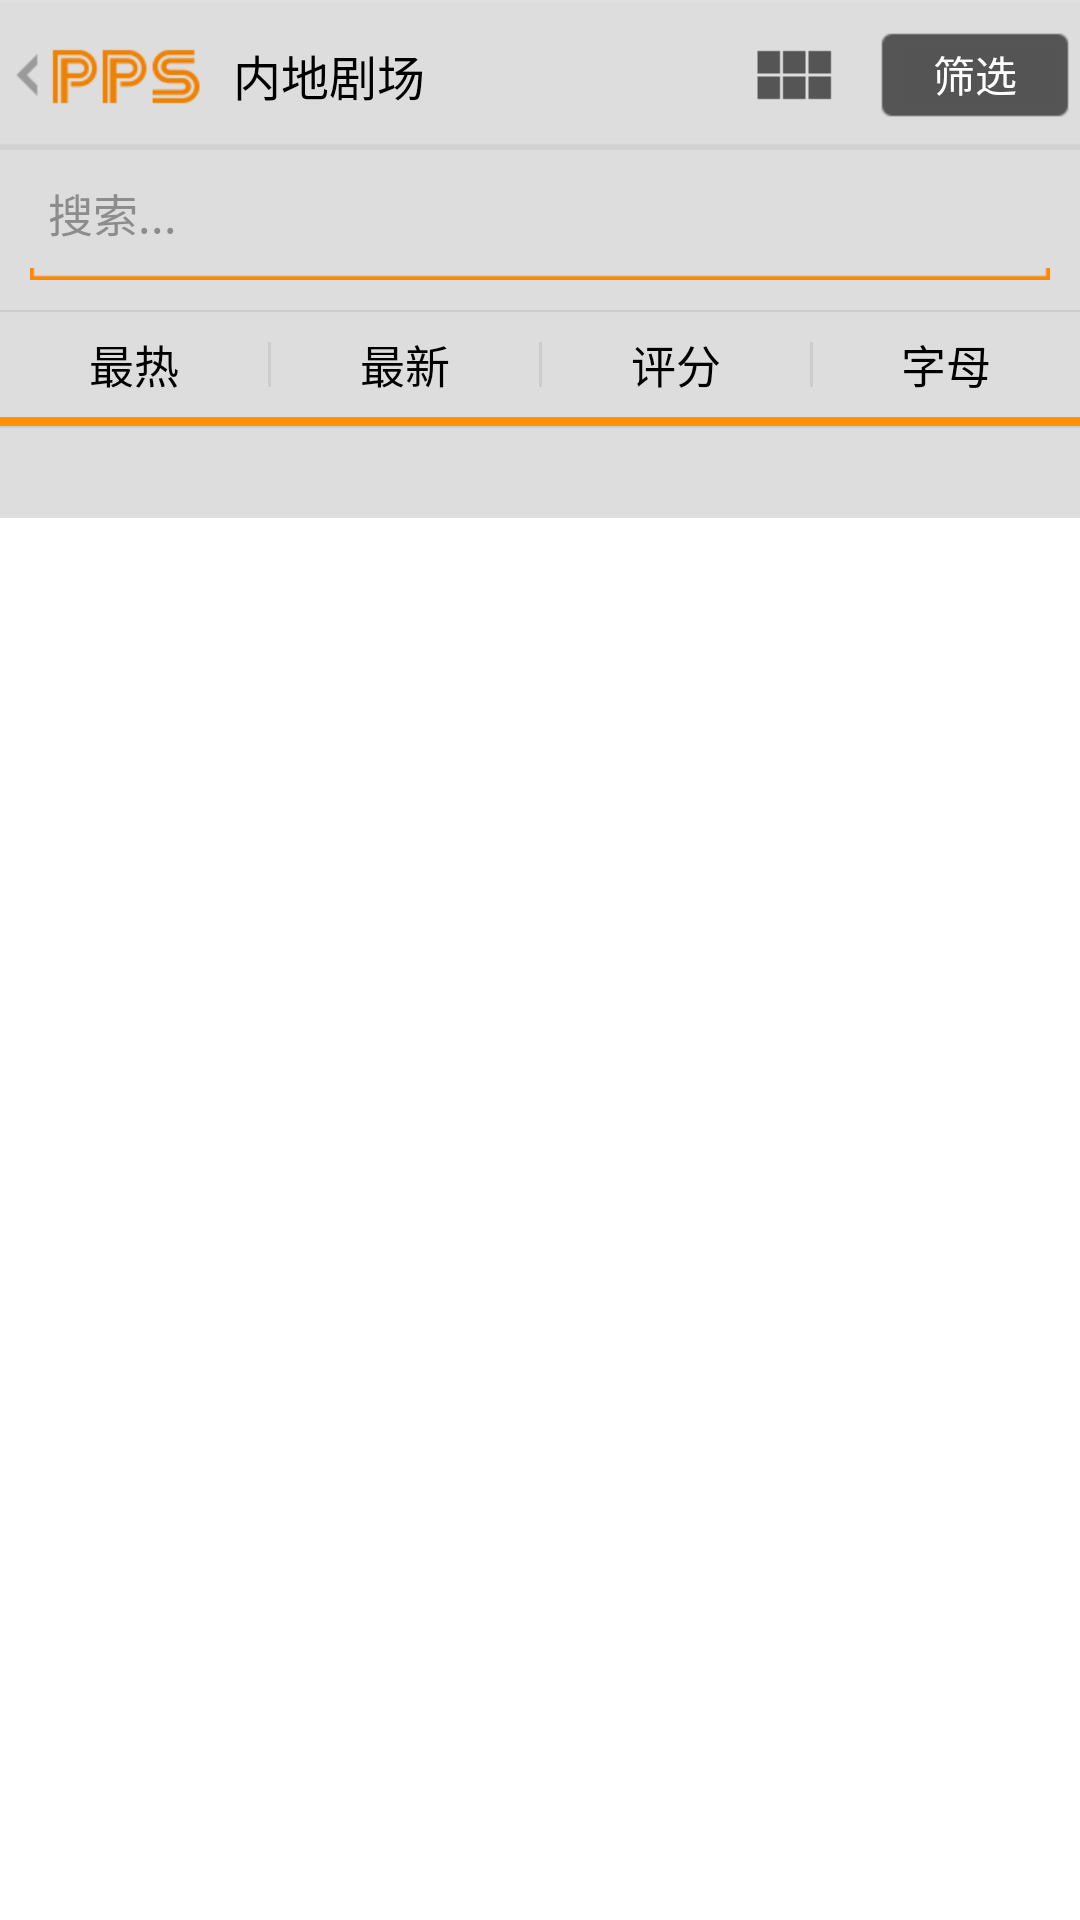

Named icons in this screenshot (1080*1920) and their bounding boxes, (x1=x1, y1=y1, x2=x2, y2=y2):
top grid: (x1=757, y1=51, x2=831, y2=99)
